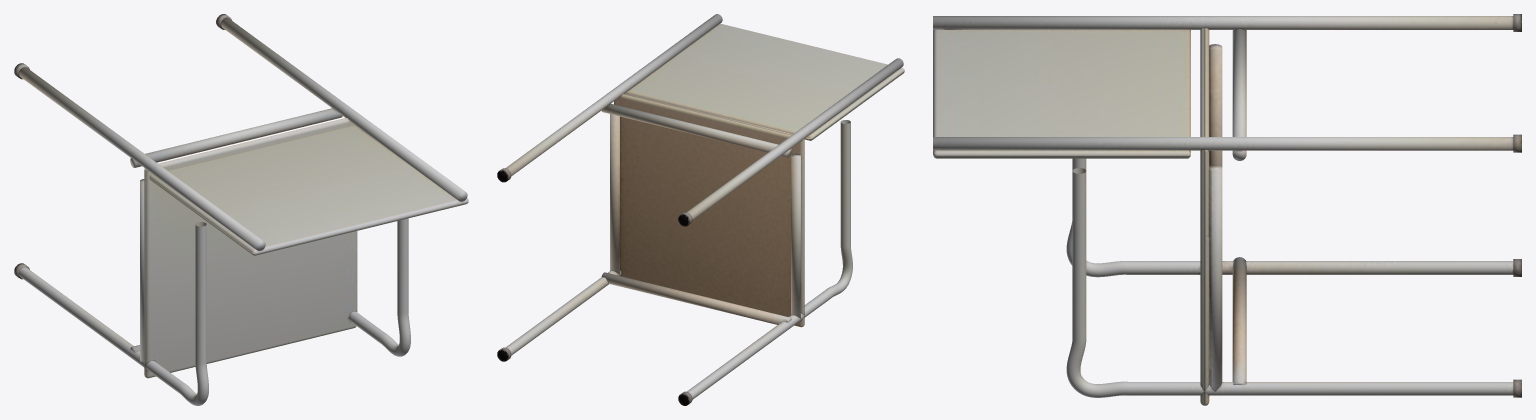
Rendered from C2_chair_final_2.obj.
3 views of the same model, side by side, from view 1: azimuth 30°, elevation 25°; view 2: azimuth 150°, elevation 25°; view 3: azimuth 270°, elevation 25° (orthographic). The views are drawn at different scales.
Visible parts, largest first — view 1: C2_chair_final_2.001; view 2: C2_chair_final_2.001; view 3: C2_chair_final_2.001.
Boxes of the visible parts, x1,y1,x2,y2 form: C2_chair_final_2.001: (14,14,468,405); C2_chair_final_2.001: (497,14,904,405); C2_chair_final_2.001: (933,14,1521,405).
Bounding box in the file's own units: 0.44 × 0.426 × 0.845.
1 material, 1 textured.
